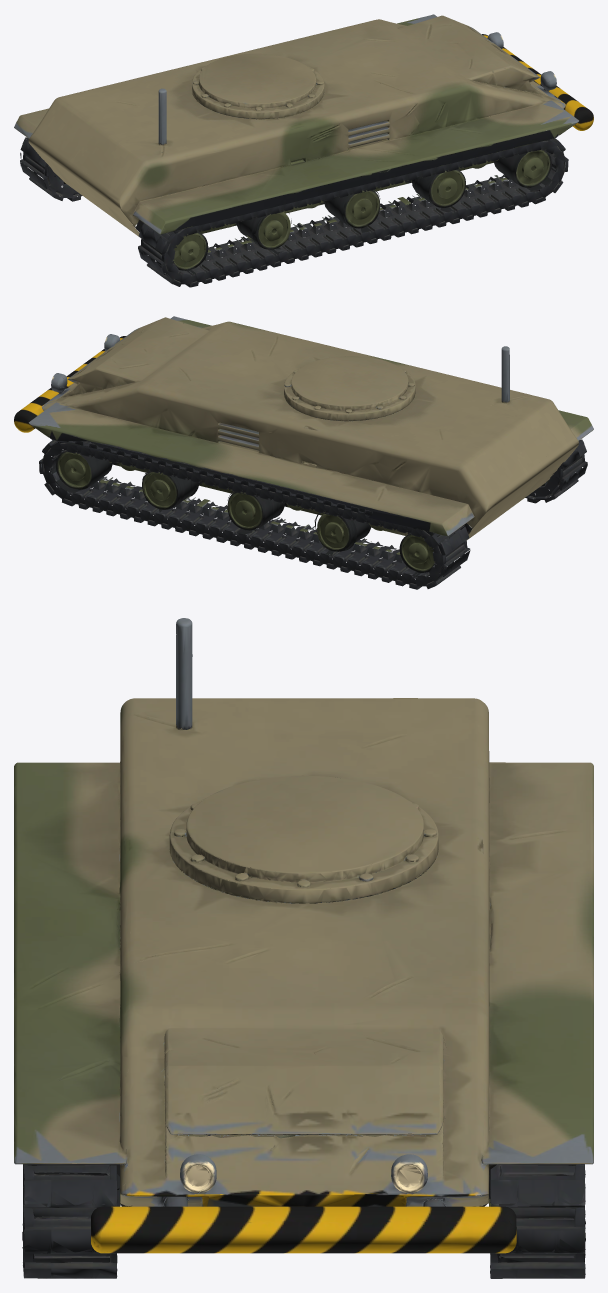
The model's file is chassis-scout-0-full.glb.
3 views of the same model, one above another, from view 1: azimuth 30°, elevation 25°; view 2: azimuth 150°, elevation 25°; view 3: azimuth 270°, elevation 25° (orthographic). The views are drawn at different scales.
Visible parts, largest first — view 1: chassis-scout-0-full; view 2: chassis-scout-0-full; view 3: chassis-scout-0-full.
Part boxes in pixels (box(x1,y1,x2,y2)): chassis-scout-0-full: box(14, 14, 593, 287); chassis-scout-0-full: box(14, 316, 593, 589); chassis-scout-0-full: box(14, 618, 593, 1278).
Bounding box in the file's own units: 1.84 × 0.6257 × 0.996.
Materials: 1 (1 with a texture image).
